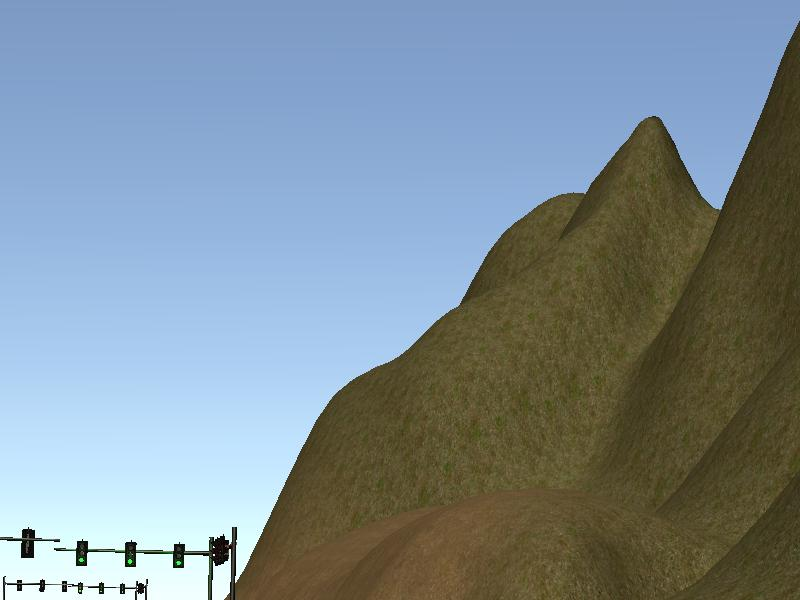Green: (123, 543, 137, 566), (173, 542, 184, 568), (76, 541, 87, 565)
